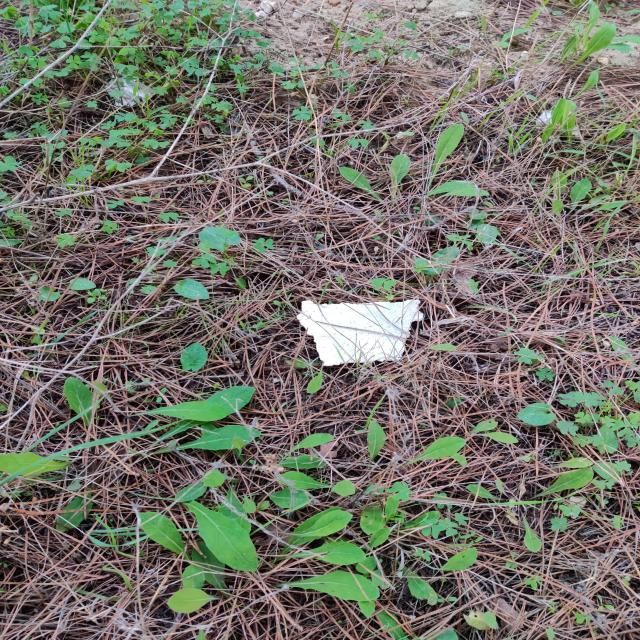litter: (292, 297, 423, 368)
